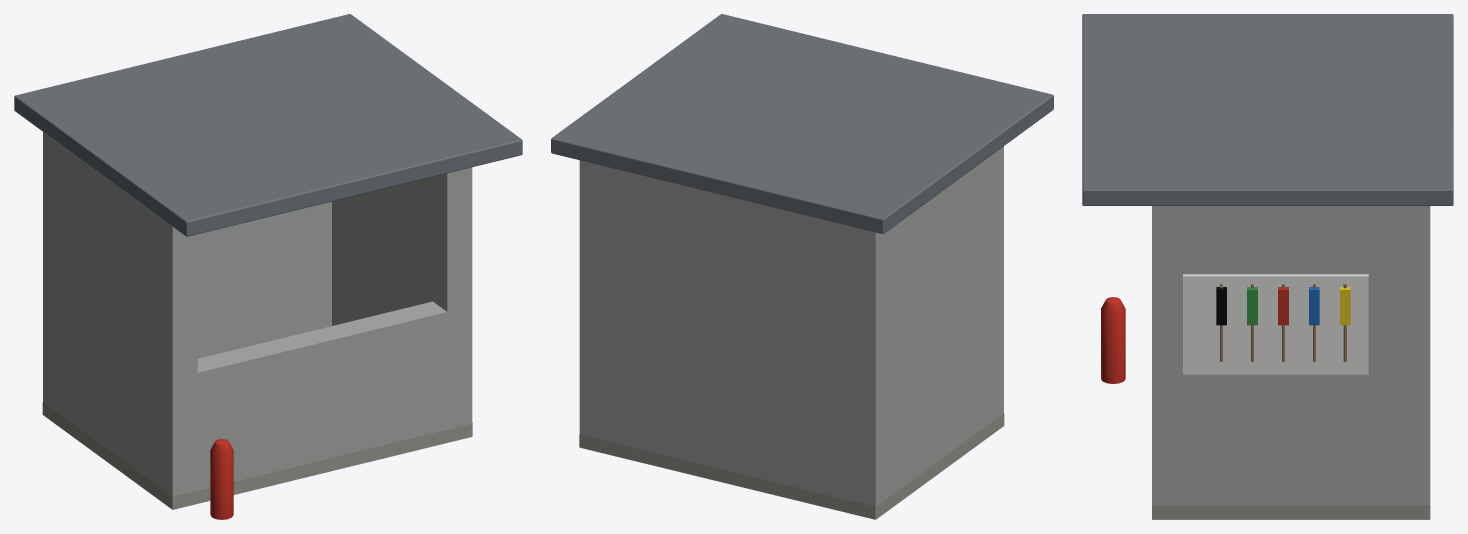
File: sport.circuit.marshal_post.glb
3 views of the same model, side by side, from view 1: azimuth 30°, elevation 25°; view 2: azimuth 150°, elevation 25°; view 3: azimuth 270°, elevation 25° (orthographic). The views are drawn at different scales.
Visible parts, largest first — view 1: main__concrete_aaa, main__paint_777, main__concrete_999, main__paint_c32; view 2: main__concrete_aaa, main__paint_777, main__concrete_999; view 3: main__paint_777, main__concrete_aaa, main__paint_ddd, main__concrete_999, main__paint_c32, main__timber_986.
Part boxes in pixels (left/top/right/bottom): main__concrete_aaa: left=43, top=132, right=472, bottom=509; main__paint_777: left=14, top=14, right=522, bottom=236; main__concrete_999: left=42, top=402, right=472, bottom=509; main__paint_c32: left=210, top=439, right=233, bottom=519; main__concrete_aaa: left=579, top=146, right=1003, bottom=519; main__paint_777: left=551, top=14, right=1053, bottom=233; main__concrete_999: left=579, top=413, right=1004, bottom=519; main__paint_777: left=1082, top=14, right=1453, bottom=205; main__concrete_aaa: left=1152, top=206, right=1430, bottom=519; main__paint_ddd: left=1183, top=274, right=1368, bottom=374; main__concrete_999: left=1152, top=505, right=1430, bottom=519; main__paint_c32: left=1101, top=297, right=1125, bottom=383; main__timber_986: left=1220, top=283, right=1346, bottom=361.
Bounding box in the file's own units: 2.7 × 2.42 × 2.4.
